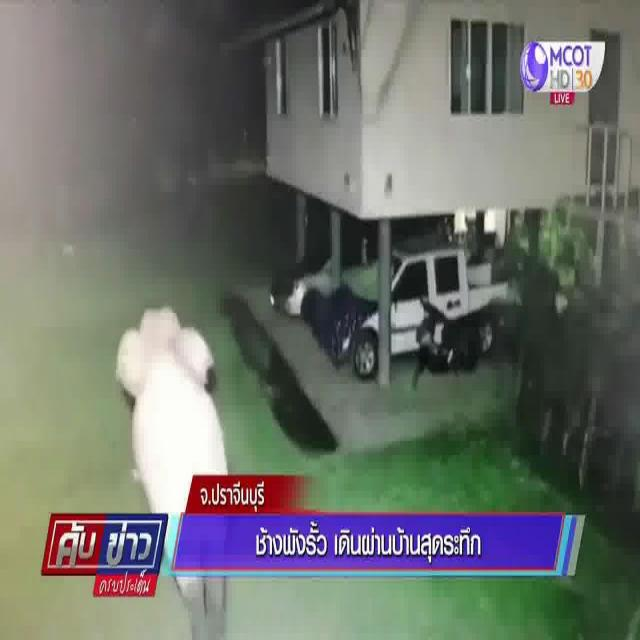Elephant: (113, 295, 230, 472)
